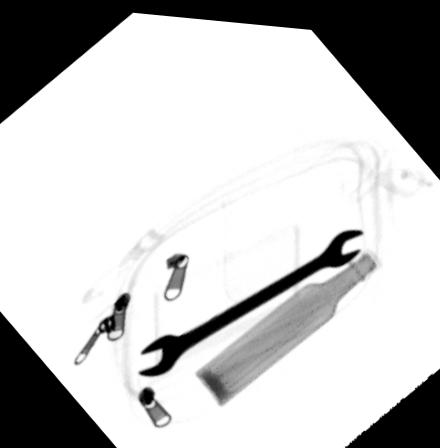Wrench: (134, 220, 364, 376)
